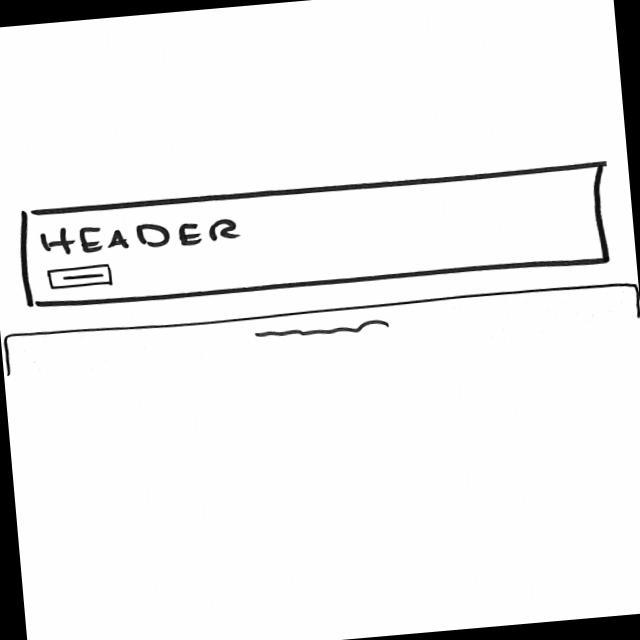container: (8, 157, 613, 316)
icon-button: (46, 262, 114, 292)
label: (39, 209, 242, 263)
text: (252, 317, 393, 343)
